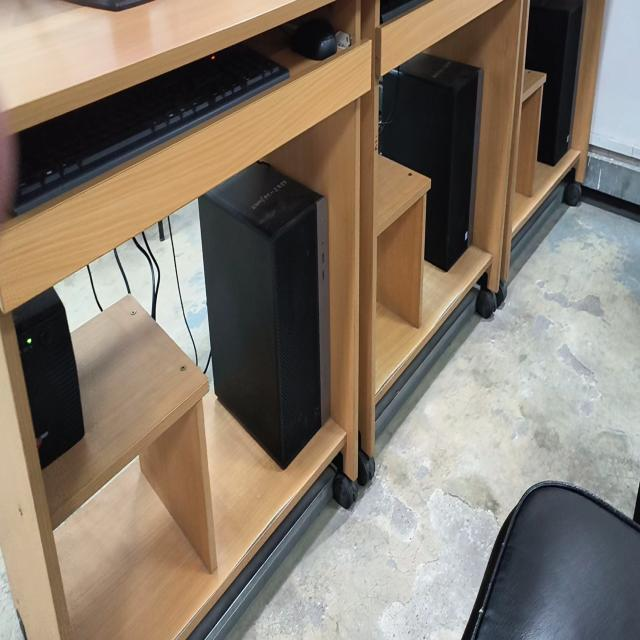Chair: (462, 481, 640, 639)
Cpu: (198, 161, 329, 468), (379, 55, 483, 271), (526, 0, 583, 165)
Keyboard: (14, 44, 289, 215)
Mouse: (289, 18, 337, 60)
